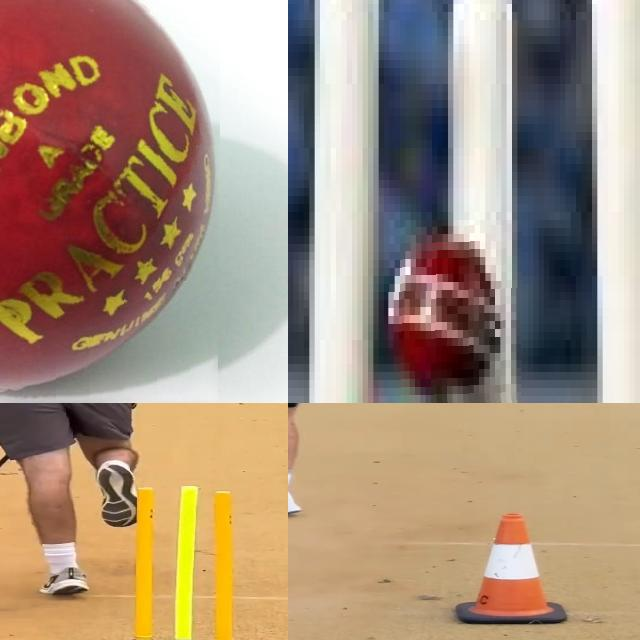Cricket ball: (0, 0, 220, 403), (385, 224, 521, 403)
Stumps: (307, 0, 640, 403), (115, 484, 250, 640)
